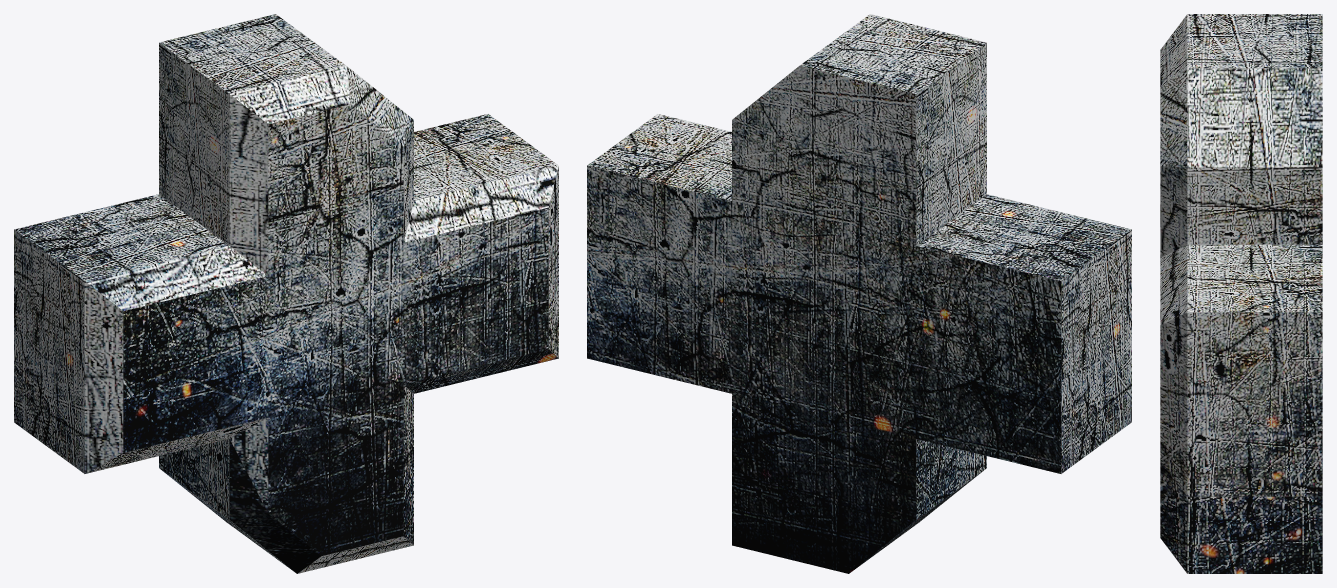
The model's file is Plus.FBX.
The picture shows the model from 3 angles, left to right: view 1: azimuth 30°, elevation 25°; view 2: azimuth 150°, elevation 25°; view 3: azimuth 270°, elevation 25°; orthographic projection. The views are drawn at different scales.
Visible parts, largest first — view 1: Plus; view 2: Plus; view 3: Plus.
Part boxes in pixels (x1,y1,x2,y2): Plus: (14,14,558,573); Plus: (587,14,1131,573); Plus: (1160,14,1322,573).
Bounding box in the file's own units: 38.7 × 38.7 × 12.
Materials: 1 (1 with a texture image).
